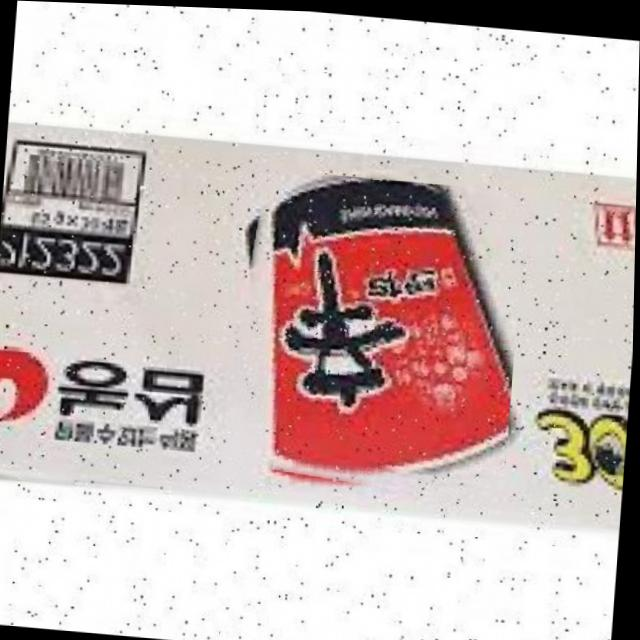Miscellaneous: (216, 163, 526, 503)
